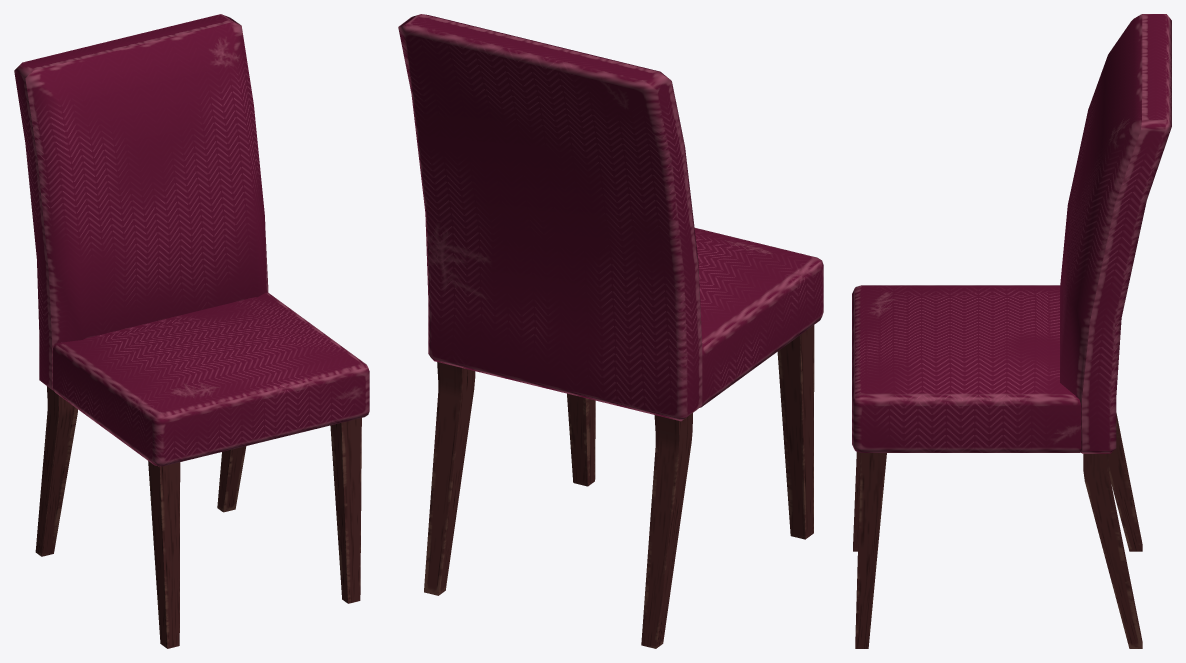
File: chairNew_textured.fbx
3 views of the same model, side by side, from view 1: azimuth 30°, elevation 25°; view 2: azimuth 150°, elevation 25°; view 3: azimuth 270°, elevation 25° (orthographic). The views are drawn at different scales.
Visible parts, largest first — view 1: NewChair; view 2: NewChair; view 3: NewChair.
Boxes of the visible parts, bbox=[...] form: NewChair: bbox=[14, 14, 369, 648]; NewChair: bbox=[398, 14, 823, 648]; NewChair: bbox=[852, 14, 1171, 648].
Size of the model in its own units: 0.2628 by 0.56 by 0.3063.
1 material, 1 textured.
